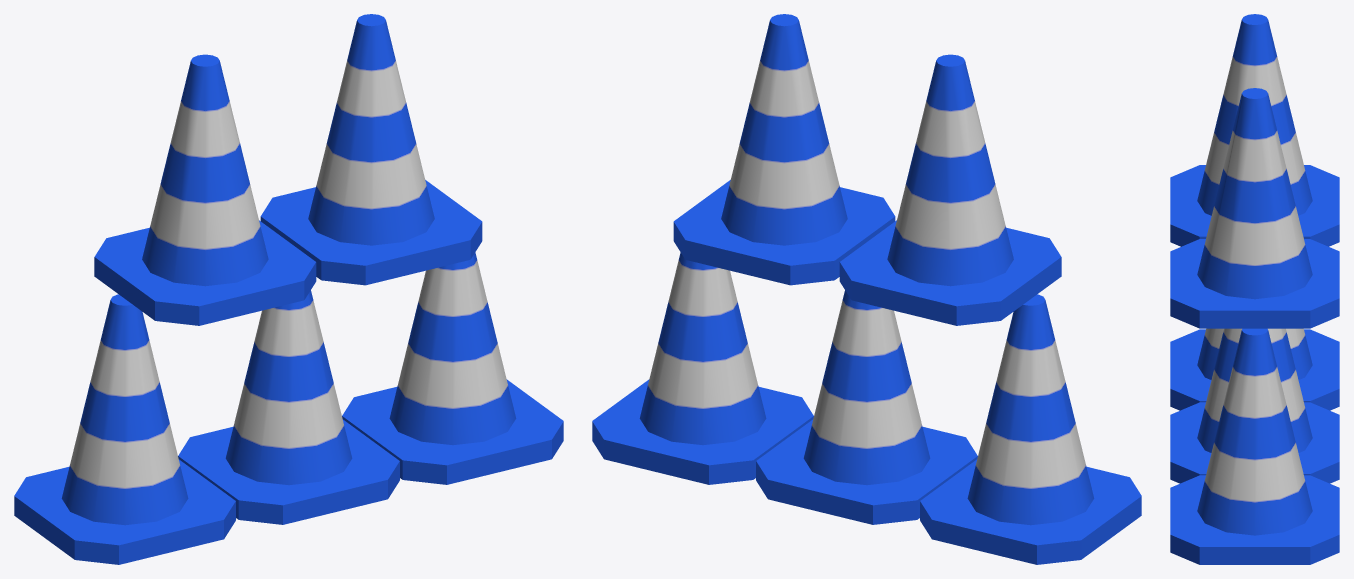
Rendered from conuses_3_destroy.fbx.
The picture shows the model from 3 angles, left to right: view 1: azimuth 30°, elevation 25°; view 2: azimuth 150°, elevation 25°; view 3: azimuth 270°, elevation 25°; orthographic projection. The views are drawn at different scales.
Visible parts, largest first — view 1: conuses_3_destroy.001, conuses_3_destroy.004, conuses_3_destroy.002, conuses_3_destroy, conuses_3_destroy.003; view 2: conuses_3_destroy.001, conuses_3_destroy.004, conuses_3_destroy.002, conuses_3_destroy, conuses_3_destroy.003; view 3: conuses_3_destroy.002, conuses_3_destroy.003, conuses_3_destroy.001, conuses_3_destroy, conuses_3_destroy.004.
Part boxes in pixels (x1,y1,x2,y2): conuses_3_destroy.001: (94, 54, 316, 325); conuses_3_destroy.004: (14, 294, 235, 564); conuses_3_destroy.002: (260, 14, 482, 285); conuses_3_destroy: (178, 290, 399, 524); conuses_3_destroy.003: (342, 252, 563, 484); conuses_3_destroy.001: (839, 54, 1061, 325); conuses_3_destroy.004: (920, 294, 1141, 564); conuses_3_destroy.002: (673, 14, 895, 285); conuses_3_destroy: (756, 290, 977, 524); conuses_3_destroy.003: (592, 252, 813, 484); conuses_3_destroy.002: (1170, 88, 1339, 328); conuses_3_destroy.003: (1170, 328, 1339, 564); conuses_3_destroy.001: (1170, 14, 1339, 246); conuses_3_destroy: (1170, 328, 1339, 483); conuses_3_destroy.004: (1170, 328, 1339, 410).
Size of the model in its own units: 265 by 227 by 87.27.
